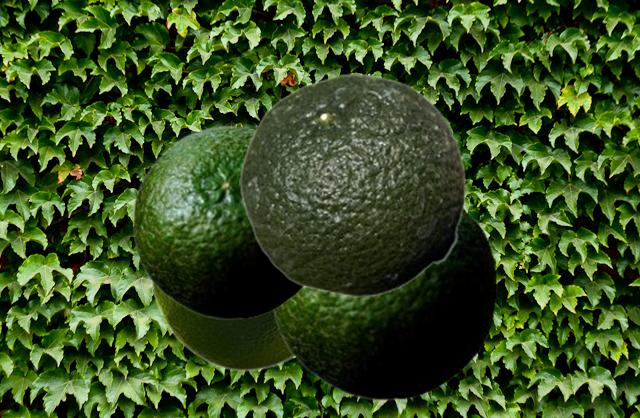calamansi: (239, 73, 465, 296), (270, 206, 496, 400), (132, 125, 304, 319), (150, 281, 294, 370)
